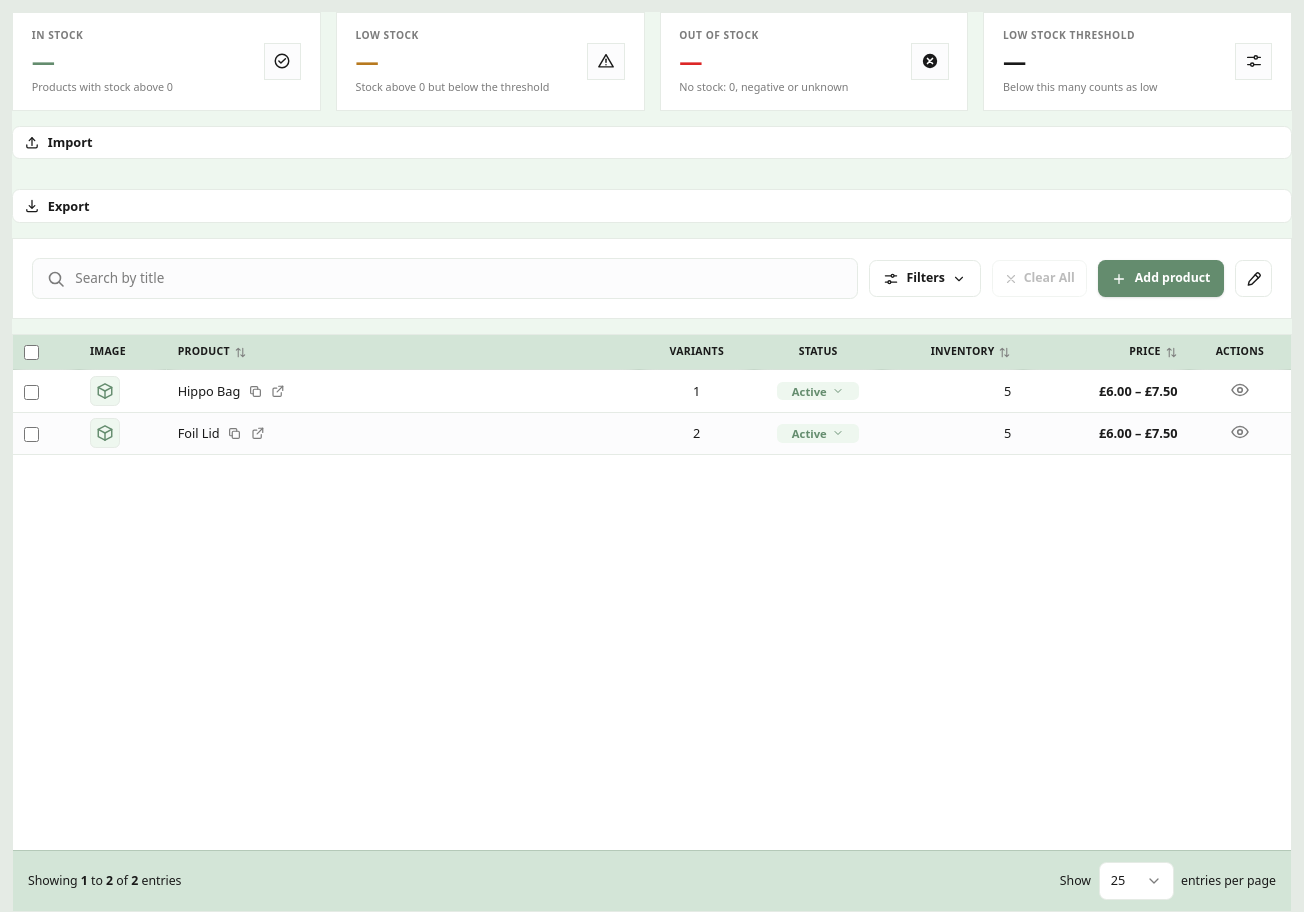
Scenario: editing products in bulk › has a checkbox on every row and one that selects the whole page
Click the checkbox named "Select Hippo Bag".
click(32, 392)  # box [24, 385, 39, 400]
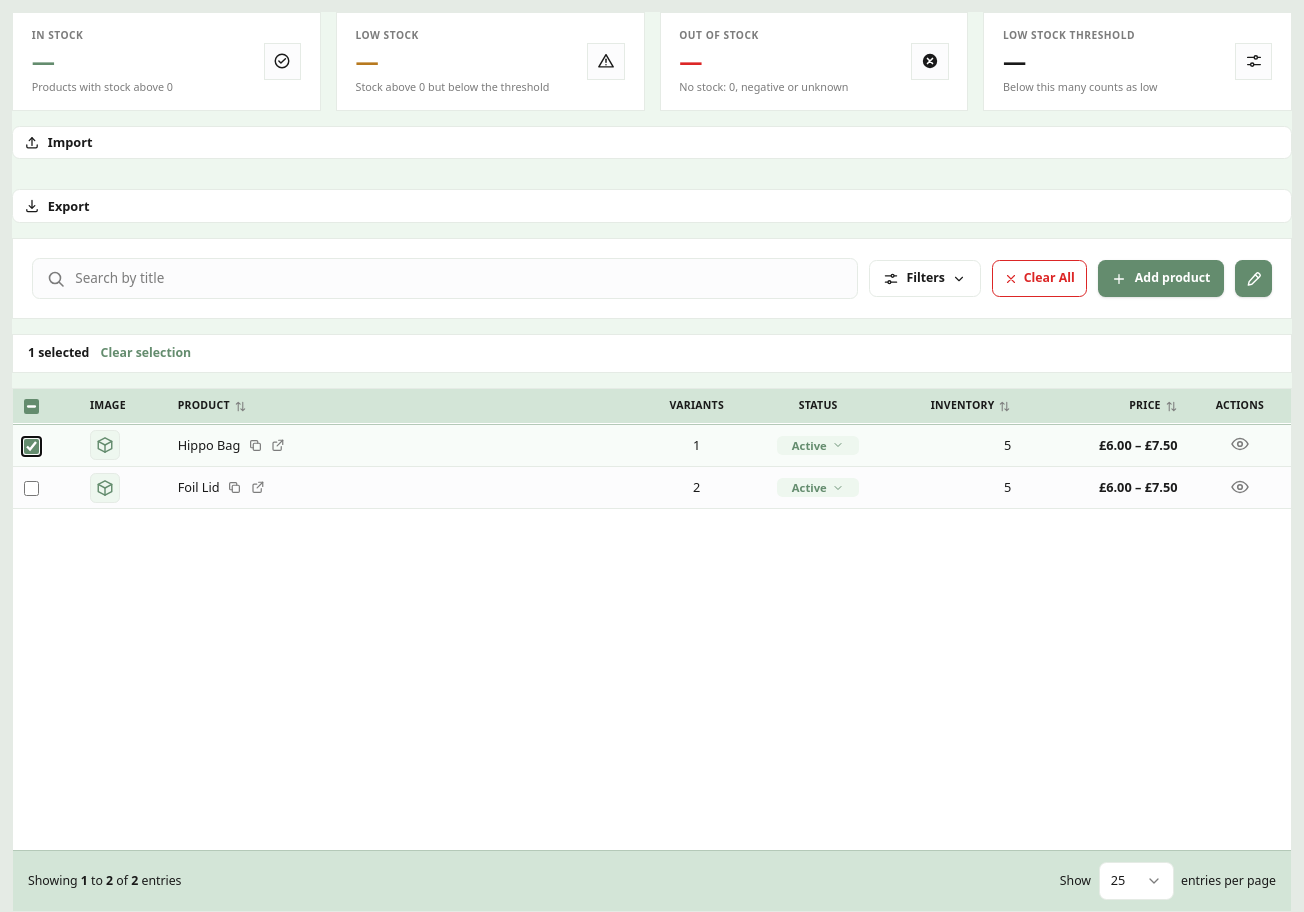
Now the text "1 selected" is shown, box [28, 344, 89, 361]
Click the checkbox named "Select all products on this page".
click(32, 407)  # box [24, 399, 39, 414]
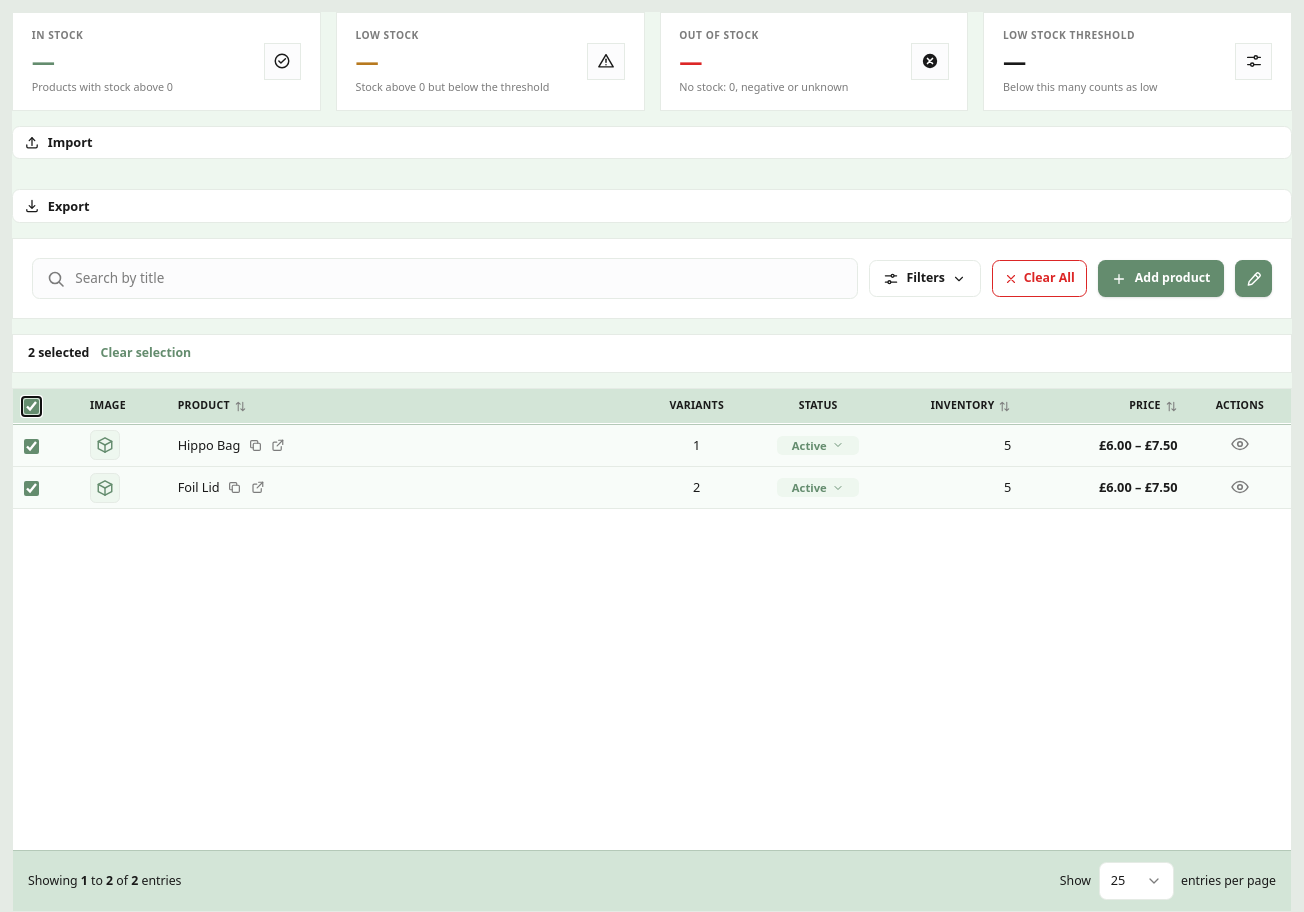
Now the text "2 selected" is shown, box [28, 344, 89, 361]
Now the checkbox named "Select Foil Lid" is checked, box [24, 481, 39, 496]
Click the checkbox named "Select all products on this page".
click(32, 407)  # box [24, 399, 39, 414]
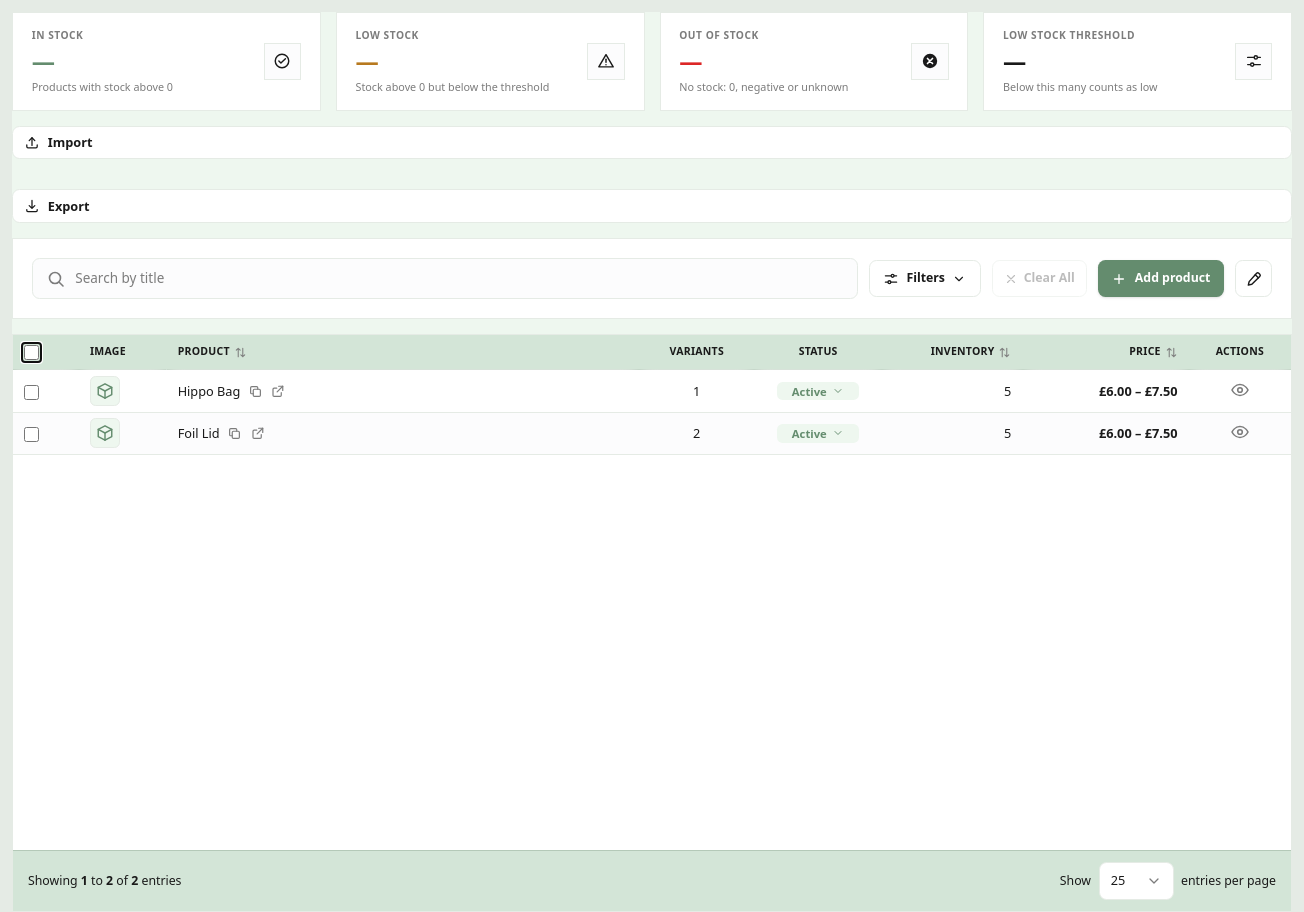
Now the text "selected" is gone
